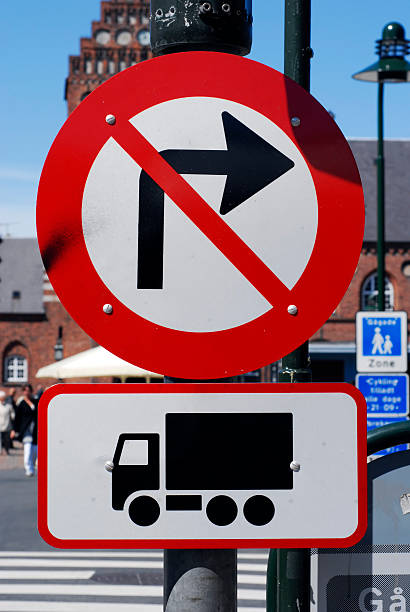saga_donulmez: (31, 45, 369, 377)
